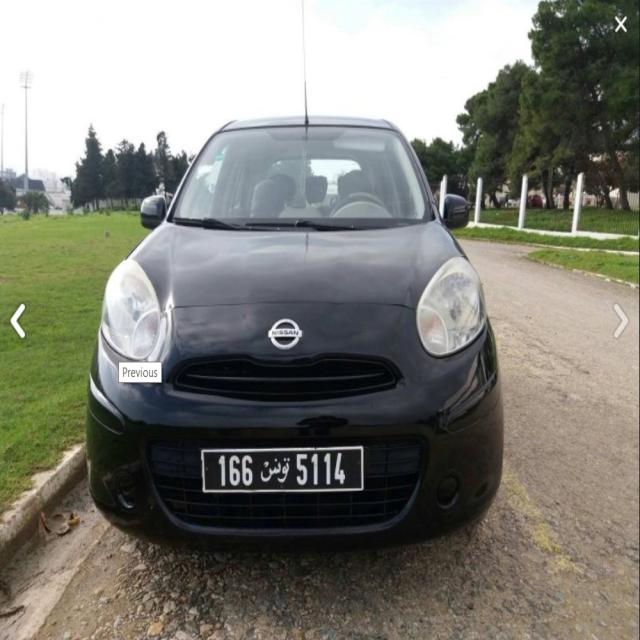LP: (197, 442, 367, 495)
